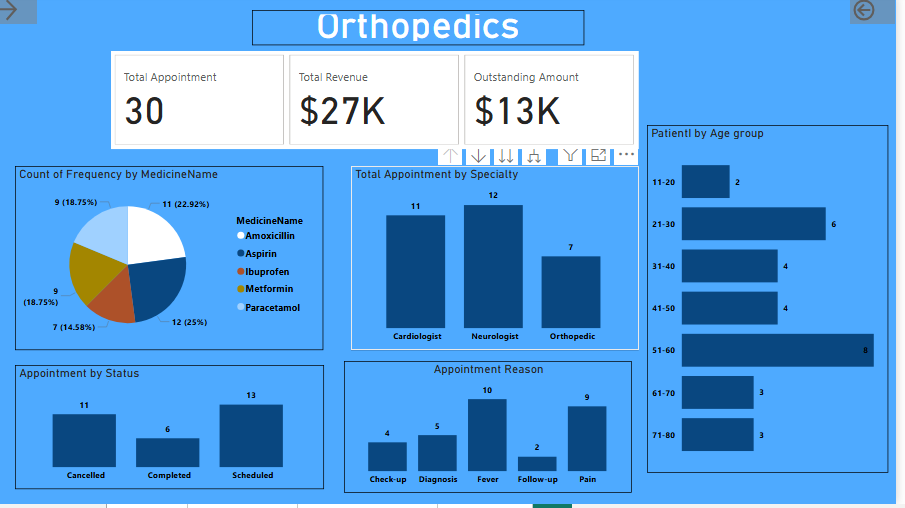

The page's visual inventory and layout, read from the dashboard file:
{"tool":"powerbi","page":{"name":"department detail","canvas":[1280,720],"ordinal":2},"visuals":[{"type":"card","fields":{"Values":["Min(Doctors.Department)"]},"box":[368.5,19.8,470.6,49.6],"z":0},{"type":"columnChart","fields":{"Category":["Doctors.Specialty","Doctors.DoctorName"],"Y":["Appointments.Total Appointment"]},"box":[508.8,240.9,408.2,260.8],"z":1000},{"type":"pieChart","fields":{"Series":["Prescriptions.MedicineName"],"Y":["CountNonNull(Prescriptions.Frequency)"]},"box":[32.6,240.9,436.5,260.8],"z":2000},{"type":"cardVisual","fields":{"Data":["Appointments.Total Appointment","Appointments.Total Revenue","Appointments.Outstanding Amount"]},"box":[168.7,78,748.3,138.9],"z":3000},{"type":"clusteredBarChart","title":" PatientI by Age group","fields":{"Category":["Patients.Age group","Patients.Month"],"Y":["CountNonNull(Appointments.PatientID)"]},"box":[928.3,182.8,341.6,493.2],"z":4000},{"type":"columnChart","title":" Appointment by Status","fields":{"Category":["Appointments.Status"],"Y":["CountNonNull(Appointments.AppointmentID)"]},"box":[32.6,523,438,175.7],"z":5000},{"type":"actionButton","box":[1216.1,0,63.8,39.7],"z":6000},{"type":"actionButton","box":[0,0,63.8,39.7],"z":6001},{"type":"columnChart","title":"Appointment Reason","fields":{"Y":["CountNonNull(Appointments.AppointmentID)"],"Category":["Appointments.VisitReason"]},"box":[498.9,517.3,408.2,187.1],"z":6002}]}

Visuals, with their boxes in screenshot pixels (x1, y1, x2, y2), scaled from the page's 1280x720 canvas onto the 905x508 screenshot:
card - Min(Doctors.Department): region(261, 14, 593, 49)
columnChart - Doctors.Specialty x Doctors.DoctorName: region(360, 170, 648, 354)
pieChart - Prescriptions.MedicineName x CountNonNull(Prescriptions.Frequency): region(23, 170, 332, 354)
cardVisual - Appointments.Total Appointment x Appointments.Total Revenue: region(119, 55, 648, 153)
" PatientI by Age group" clusteredBarChart: region(656, 129, 898, 477)
" Appointment by Status" columnChart: region(23, 369, 333, 493)
actionButton: region(860, 0, 904, 28)
actionButton: region(0, 0, 45, 28)
"Appointment Reason" columnChart: region(353, 365, 641, 497)
